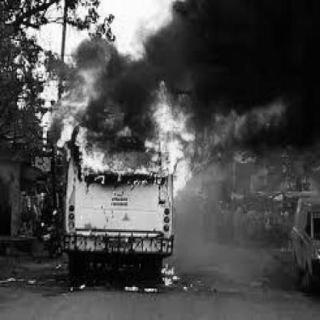Fire: (44, 40, 287, 198), (160, 261, 178, 287), (74, 224, 91, 236), (144, 285, 158, 293)
